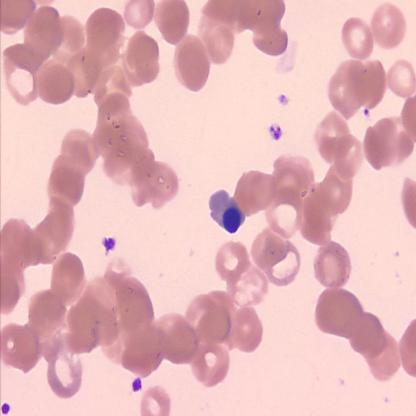NRC: (207, 188, 248, 236)
